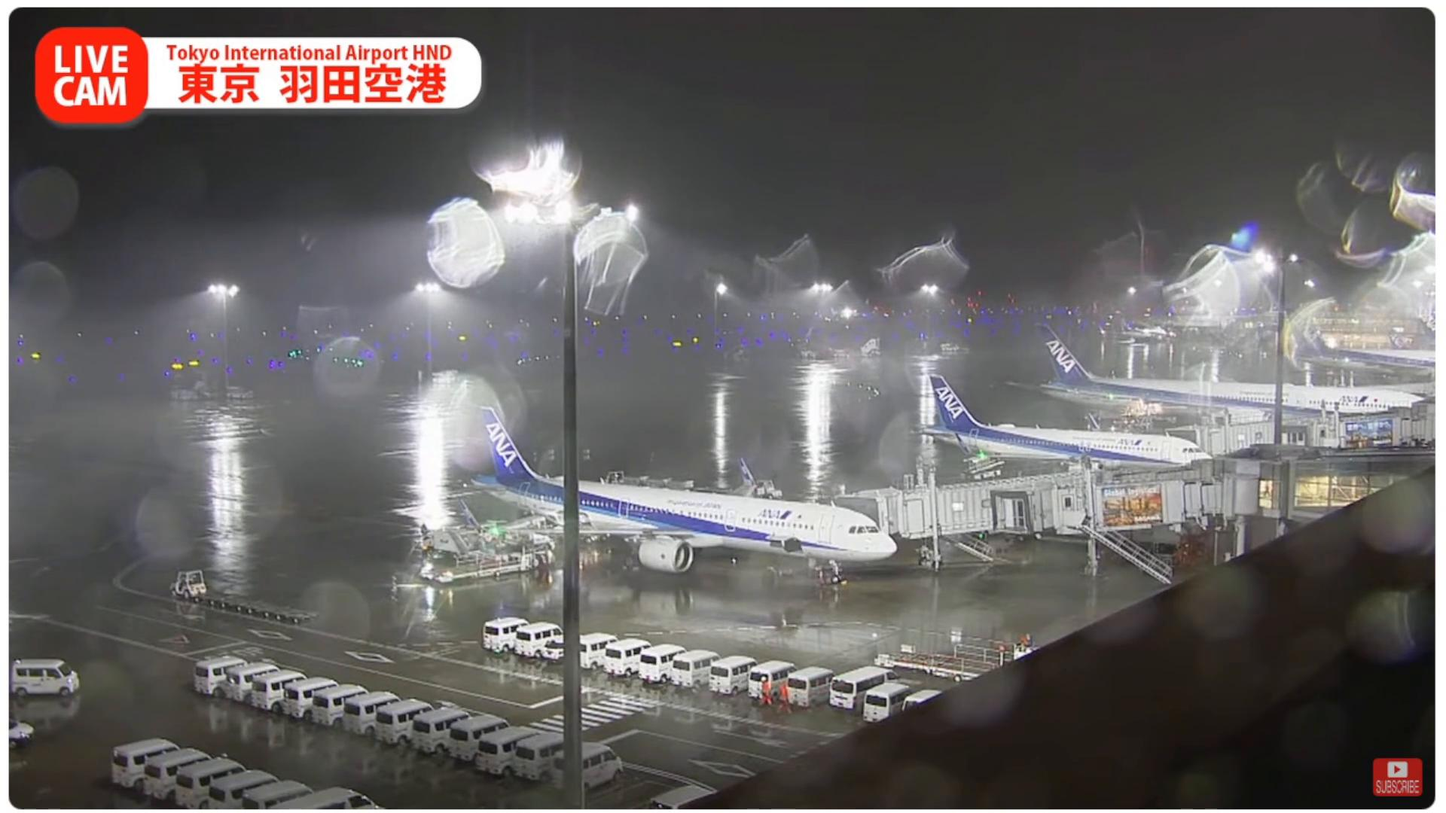Aerobridge: (839, 461, 1195, 539), (988, 472, 1227, 537)
Airplane: (461, 406, 899, 585)
Baggage truck: (422, 527, 487, 561)
Dolly: (189, 591, 322, 625), (616, 475, 738, 492)
JCPL: (414, 547, 559, 587), (874, 647, 1012, 682), (913, 631, 1059, 660)
Skyloader: (484, 523, 566, 560)
Tractor: (168, 568, 208, 600), (753, 480, 779, 497)
Window: (1291, 475, 1415, 508)
